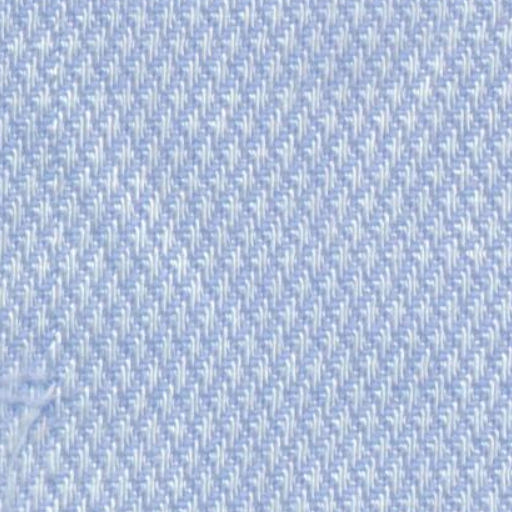DuanSha: (6, 348, 97, 470)
